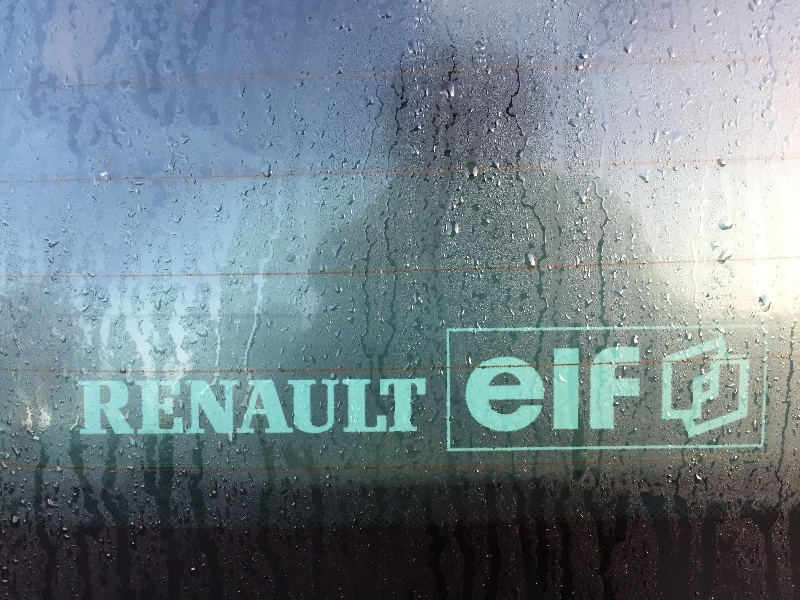text: (625, 345, 641, 434), (465, 345, 480, 434), (481, 345, 496, 434), (497, 345, 512, 434), (513, 345, 528, 434), (529, 345, 544, 434), (545, 345, 560, 434), (561, 345, 576, 434), (577, 345, 592, 434), (593, 345, 608, 434), (609, 345, 624, 434), (81, 376, 96, 436), (97, 376, 112, 436), (113, 376, 128, 436), (129, 376, 144, 436), (145, 376, 160, 436), (161, 376, 176, 436), (177, 376, 192, 436), (193, 376, 208, 436), (209, 376, 224, 436), (225, 376, 240, 436), (241, 376, 256, 436), (257, 376, 272, 436), (273, 376, 288, 436), (289, 376, 304, 436), (305, 376, 320, 436), (321, 376, 336, 436), (337, 376, 352, 436), (353, 376, 368, 436), (369, 376, 384, 436), (385, 376, 400, 436), (401, 376, 416, 436), (417, 376, 427, 436), (79, 376, 80, 436)
